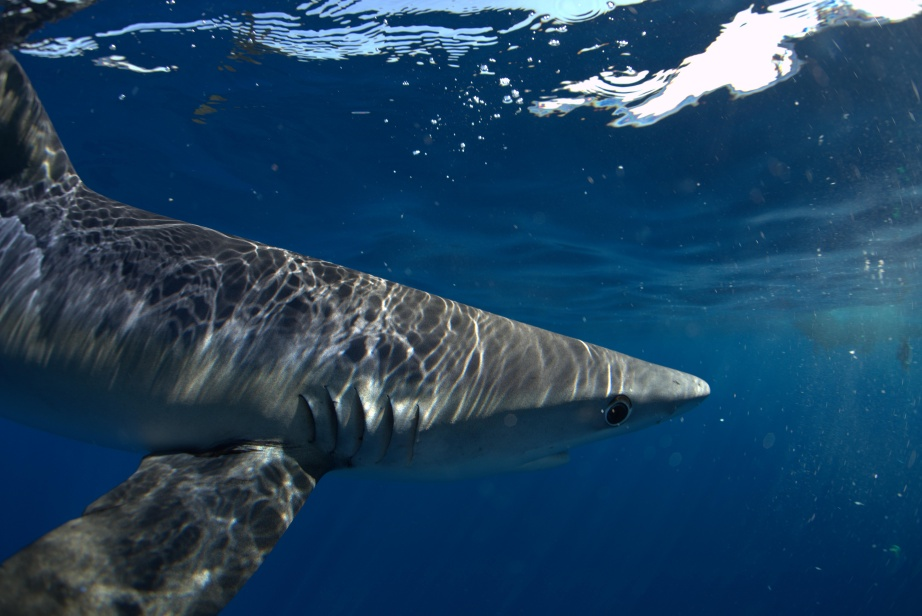Azul: (1, 4, 783, 610)
